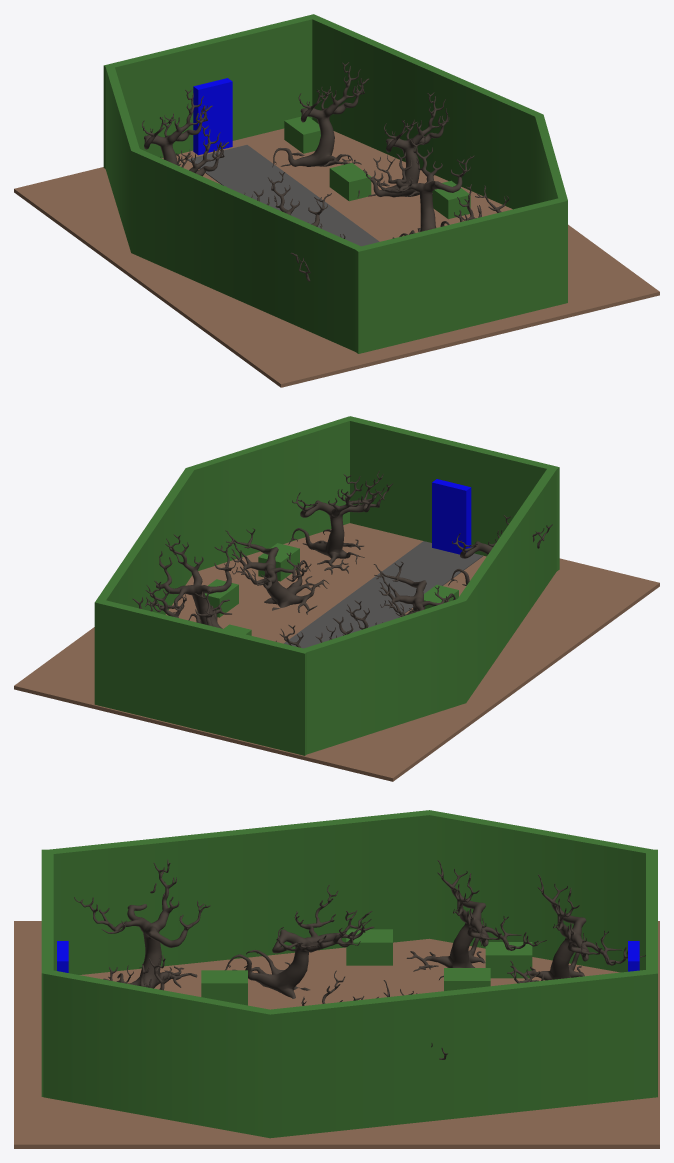
File: Tile2.fbx
3 renders of one model, top to bottom at view 1: azimuth 30°, elevation 25°; view 2: azimuth 150°, elevation 25°; view 3: azimuth 270°, elevation 25°, orthographic. The views are drawn at different scales.
Visible parts, largest first — view 1: Ground2, TreeWall5, TreeWall6, TreeWall7, TreeWall8, Pathway2, LeaflessTree7, TreeWall9, LeaflessTree5, LeaflessTree6, LeaflessTree3, Bushes4 (+4 smaller); view 2: Ground2, TreeWall5, TreeWall6, TreeWall8, TreeWall7, Pathway2, LeaflessTree4, TreeWall10, LeaflessTree5, LeaflessTree6, LeaflessTree1, Bushes7 (+3 smaller); view 3: TreeWall6, TreeWall5, Ground2, LeaflessTree1, LeaflessTree:LeaflessTree, LeaflessTree2, LeaflessTree3, TreeWall7, Bushes1, TreeWall8, Bushes3, Bushes (+1 smaller).
Boxes of the visible parts, x1,y1,x2,y2 form: Ground2: (14,128,659,387); TreeWall5: (105,63,366,351); TreeWall6: (305,14,567,209); TreeWall7: (355,198,567,353); TreeWall8: (103,14,317,168); Pathway2: (188,145,379,246); LeaflessTree7: (272,62,369,167); TreeWall9: (193,78,232,155); LeaflessTree5: (363,134,474,238); LeaflessTree6: (357,92,449,197); LeaflessTree3: (142,89,212,164); Bushes4: (329,163,371,201); Ground2: (14,523,659,781); TreeWall5: (296,465,557,754); TreeWall6: (94,416,356,706); TreeWall8: (96,600,309,755); TreeWall7: (346,416,559,571); Pathway2: (284,541,482,648); LeaflessTree4: (288,470,393,574); TreeWall10: (432,479,471,554); LeaflessTree5: (225,528,328,614); LeaflessTree6: (145,534,235,628); LeaflessTree1: (373,561,455,616); Bushes7: (258,543,299,581); TreeWall6: (43,968,657,1138); TreeWall5: (43,810,656,974); Ground2: (14,921,659,1148); LeaflessTree1: (225,884,374,998); LeaflessTree:LeaflessTree: (74,859,210,988); LeaflessTree2: (406,860,546,979); LeaflessTree3: (507,874,645,982); TreeWall7: (41,849,53,1096); Bushes1: (346,929,392,965); TreeWall8: (646,849,657,1097); Bushes3: (485,942,532,978); Bushes: (201,970,247,1005).
Size of the model in its own units: 46.68 by 13.74 by 56.97.
